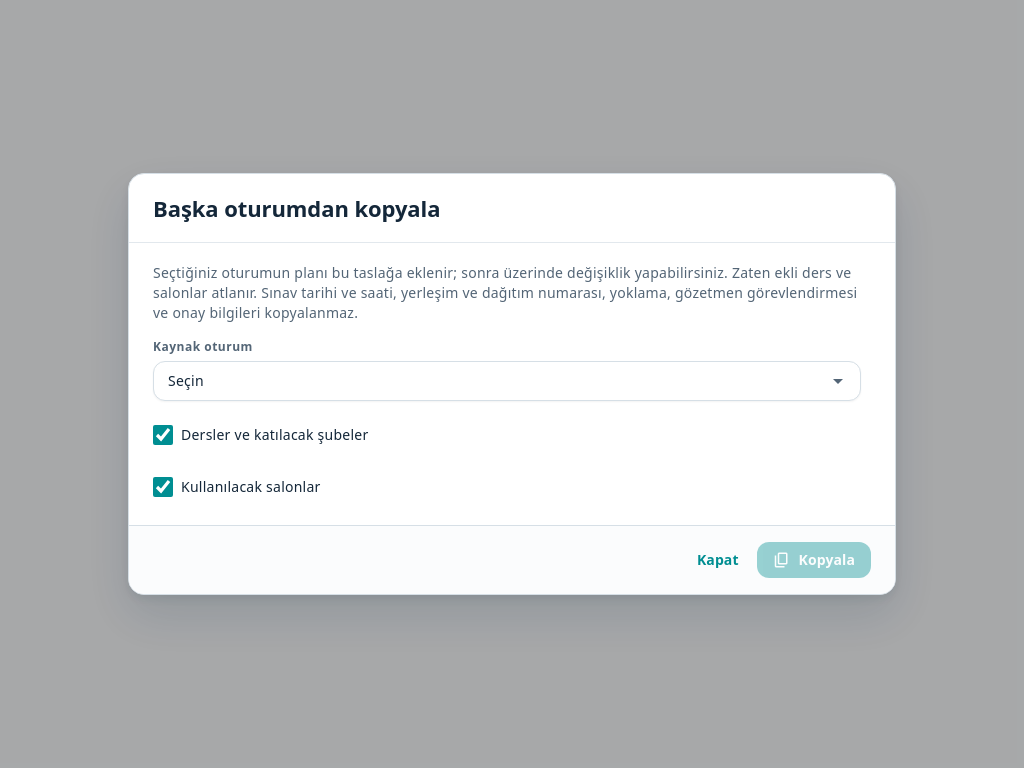
Test case: OturumKopyalaDialog › kaynak seçilip kopyalanır; hedef oturum listede görünmez
Check: the text "yerleşim ve dağıtım numarası" is shown, box [153,263,858,322]
Check: the checkbox labelled "Kullanılacak salonlar" is checked, box [153,477,173,497]
Select "Kaynak — 15.06.2026" in the dropdown labelled "Kaynak oturum" at (495, 381), box [164,371,826,391]
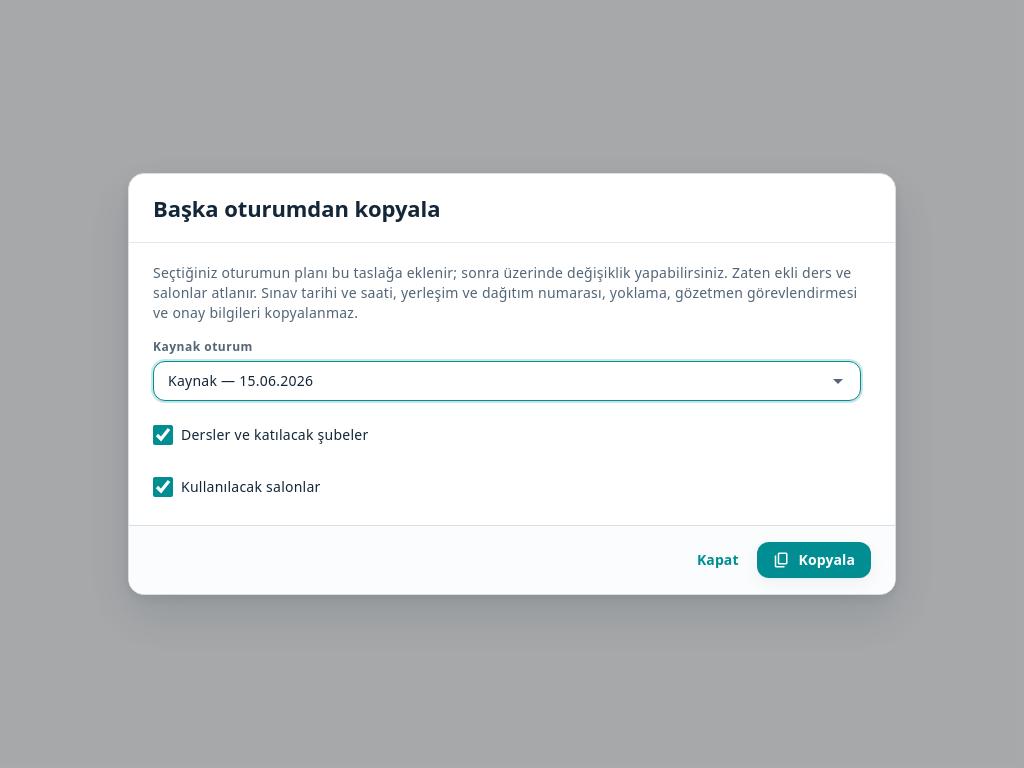
Click the button "Kopyala" at (814, 560), box [757,542,871,578]
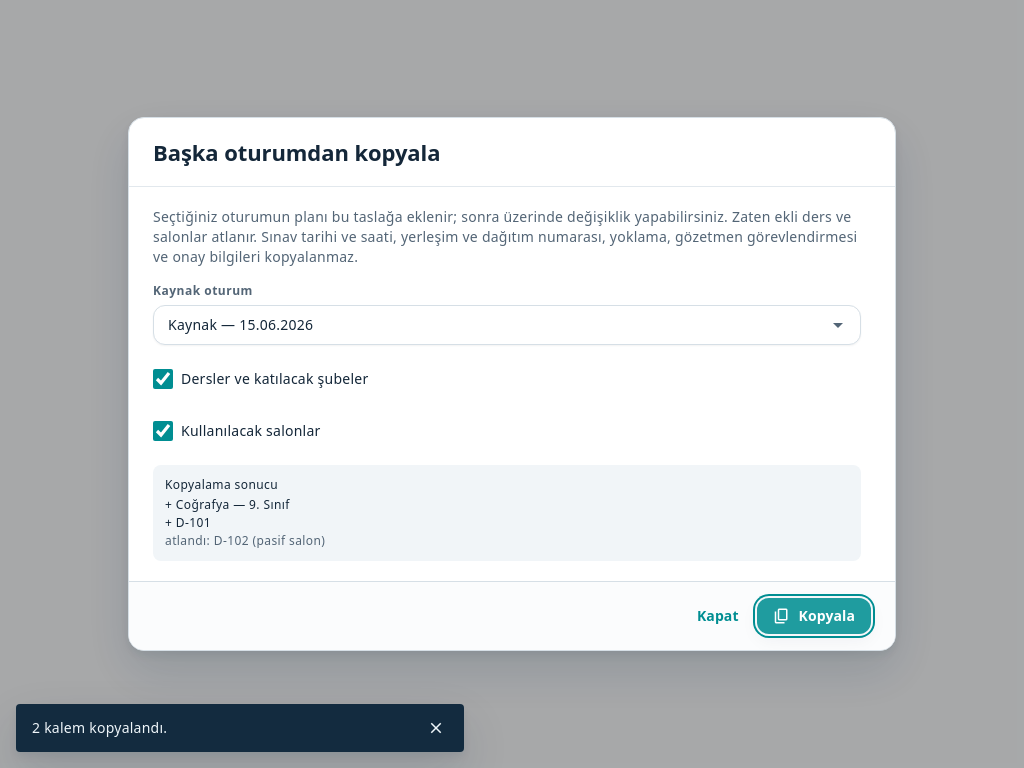
Check: the list item "atlandı: D-102 (pasif salon)" is shown, box [165,532,325,549]
